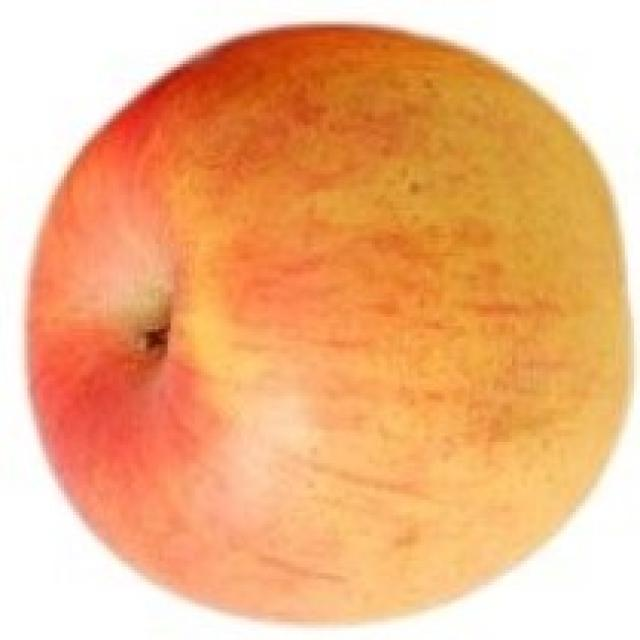75-_ripeness: (29, 22, 640, 633)
